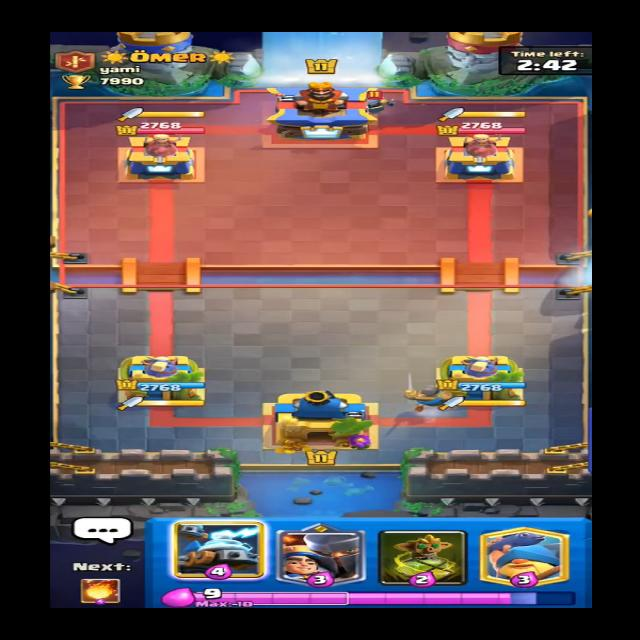mini-pekka: (352, 91, 398, 117)
